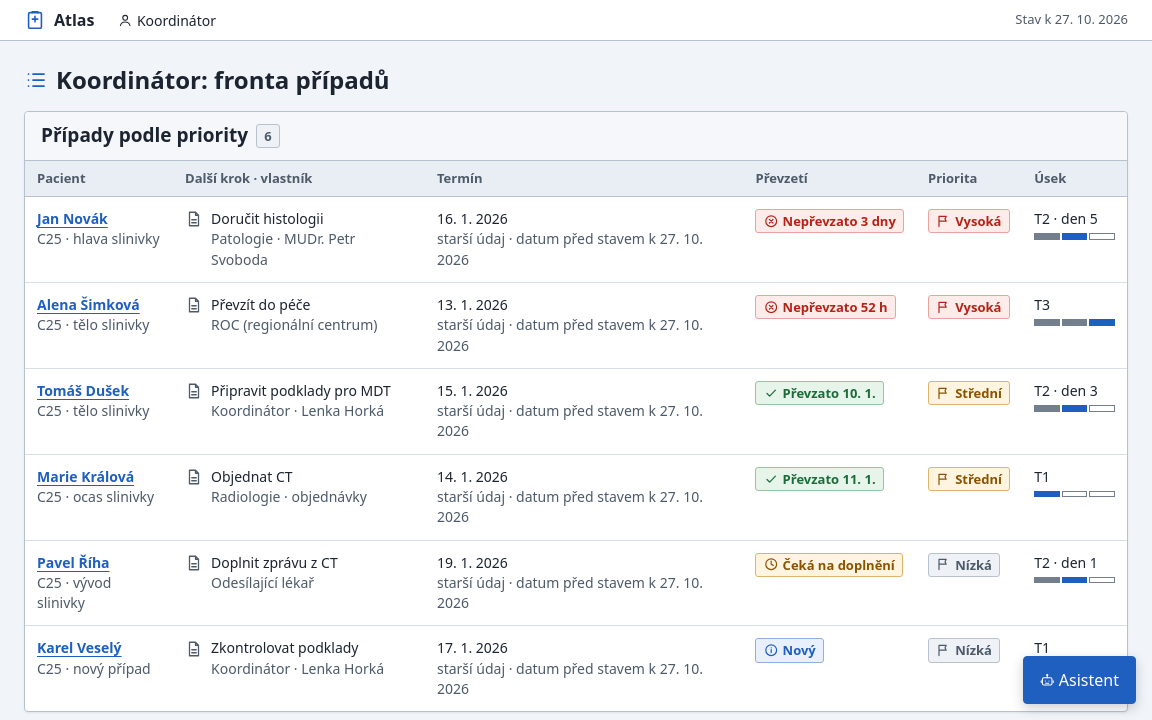
Test: assistant dialog › koordinator list/overview exposes the assistant in general mode without fallback
Click the button "Asistent" at x=1080, y=680, box [1024, 656, 1136, 704]
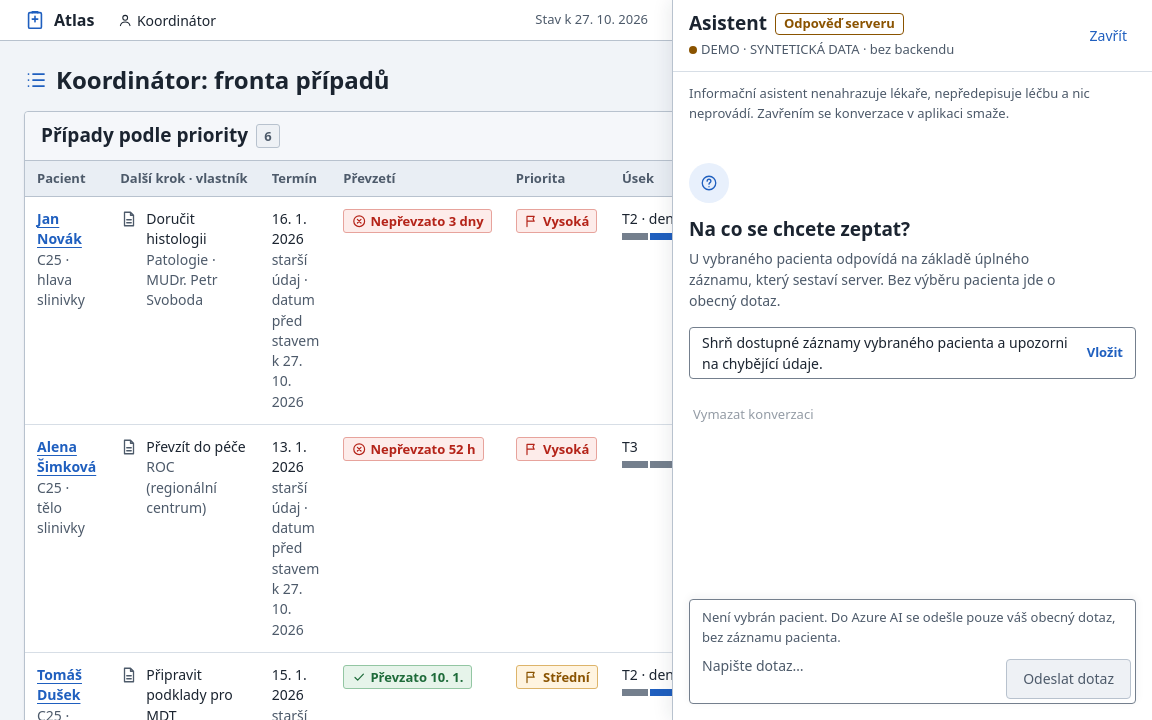
expect the text "Není vybrán pacient" is shown: met, box [702, 608, 1116, 646]
Type "Obecný dotaz" into the text box named "Váš dotaz" at x=846, y=675, box [690, 647, 1002, 703]
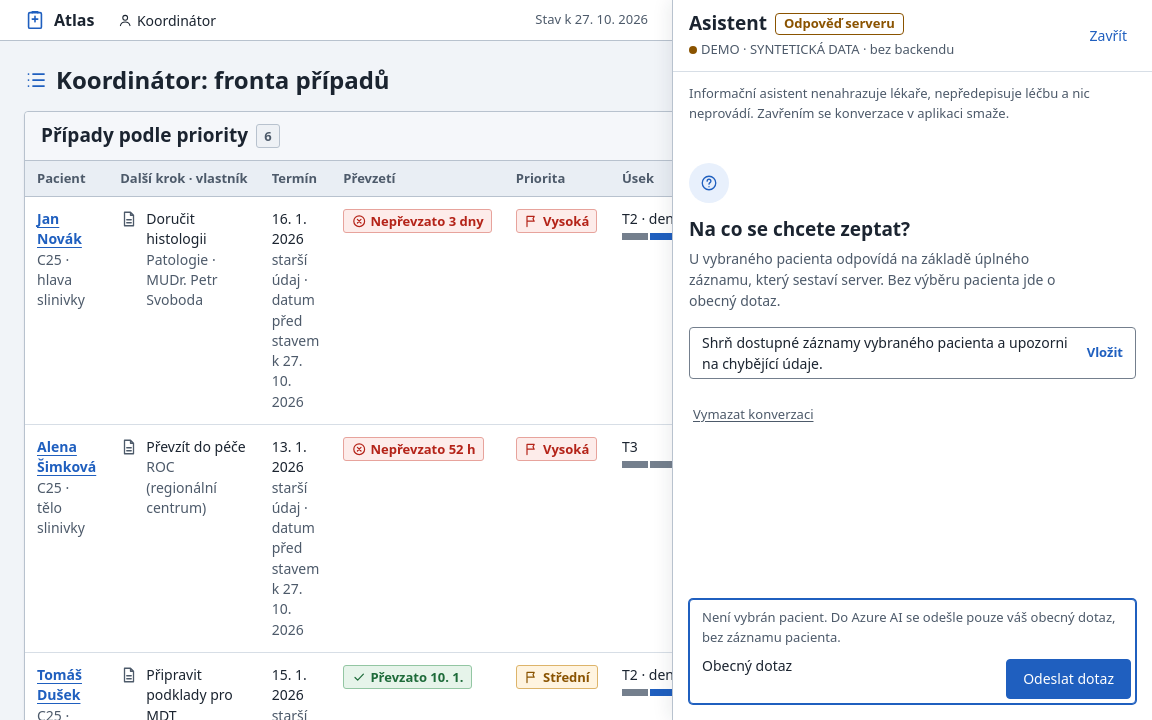
Click the button "Odeslat dotaz" at x=1069, y=679, box [1006, 659, 1131, 699]
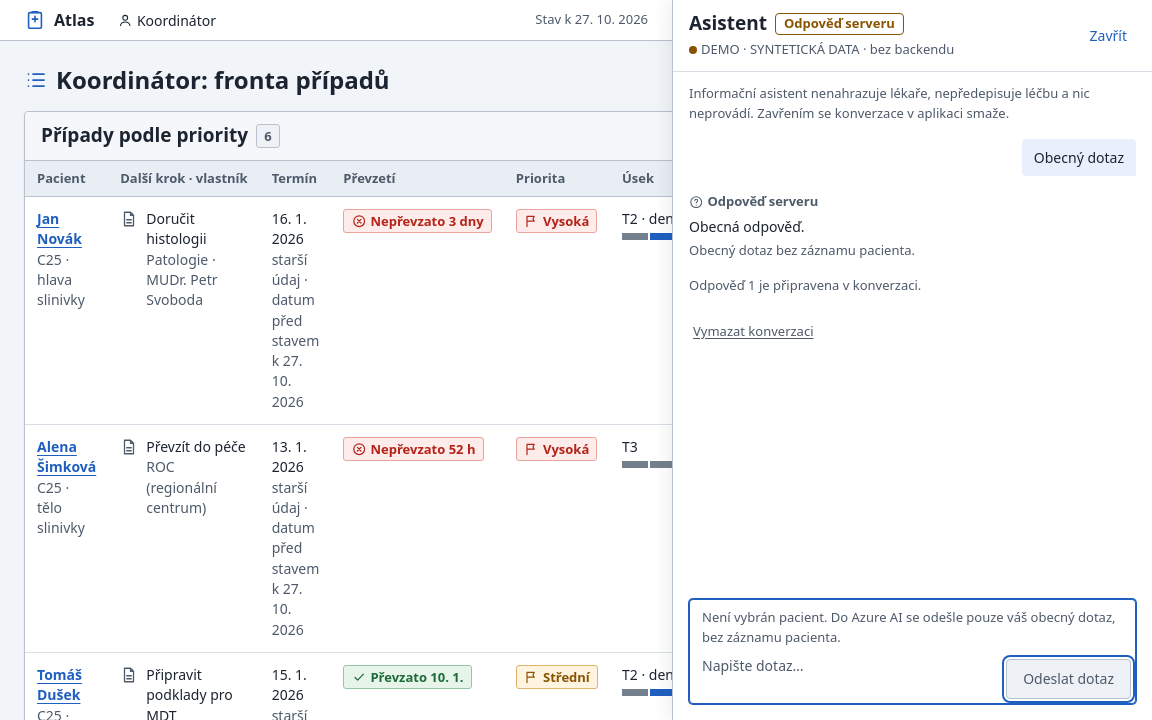
expect the text "Obecná odpověď." is shown: met, box [689, 217, 805, 236]
expect the text "Obecný dotaz bez záznamu pacienta." is shown: met, box [689, 241, 915, 259]
